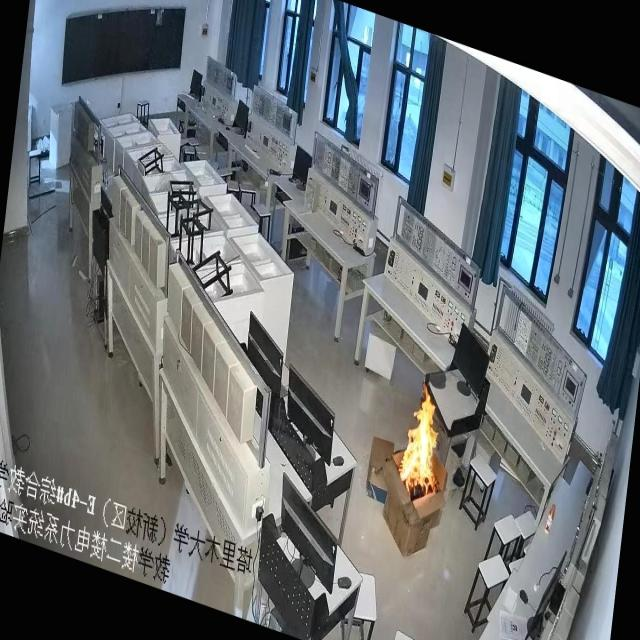fire: (379, 364, 464, 540)
